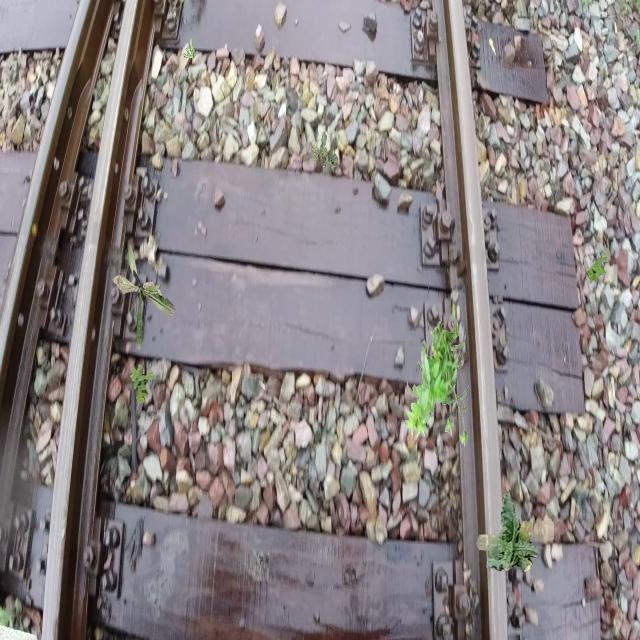Plant: (404, 304, 468, 448), (112, 238, 176, 350), (476, 489, 540, 572), (311, 132, 338, 173), (130, 363, 154, 404), (587, 252, 606, 284), (183, 38, 197, 58)
